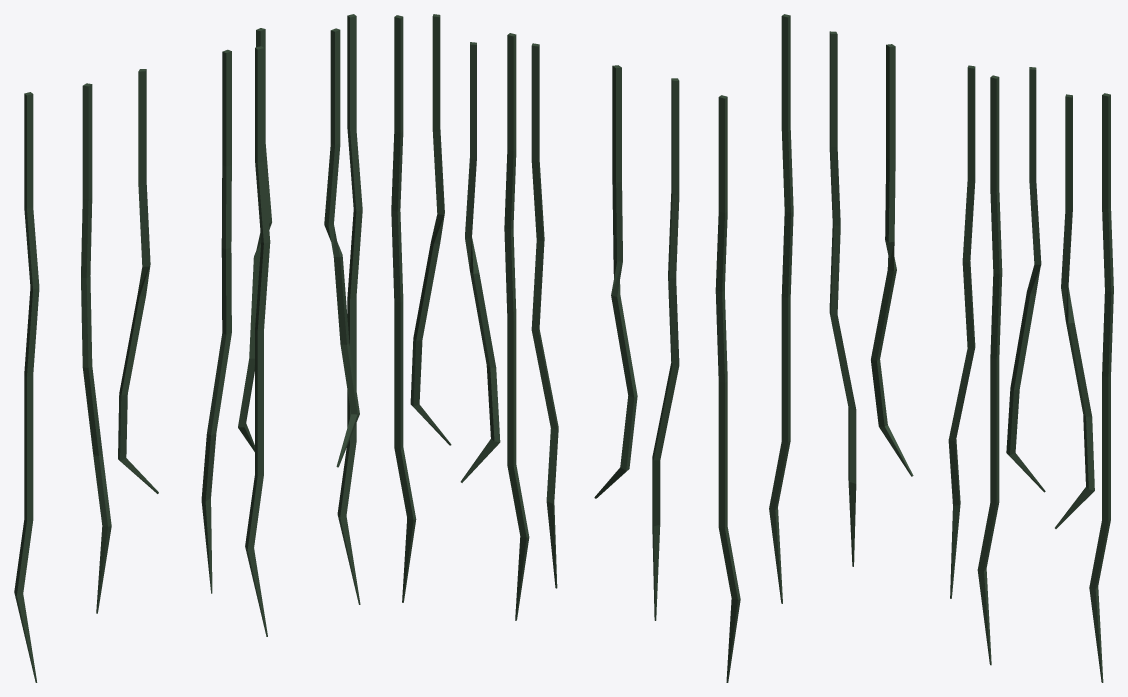
File: SM_Env_Tree_Vines_03.glb
3 views of the same model, side by side, from view 1: azimuth 30°, elevation 25°; view 2: azimuth 150°, elevation 25°; view 3: azimuth 330°, elevation 25° (orthographic).
Parts seen in each view (by area): view 1: SM_Env_Tree_Vines_03_part00; view 2: SM_Env_Tree_Vines_03_part00; view 3: SM_Env_Tree_Vines_03_part00.
Part boxes in pixels (x1,y1,x2,y2): SM_Env_Tree_Vines_03_part00: (14, 14, 362, 682); SM_Env_Tree_Vines_03_part00: (391, 14, 740, 682); SM_Env_Tree_Vines_03_part00: (769, 14, 1113, 682).
Bounding box in the file's own units: 1.88 × 3.05 × 0.3411.
1 material, 1 textured.
